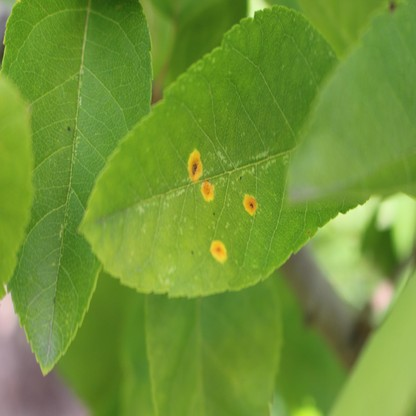rust: (186, 147, 203, 181), (209, 240, 228, 264), (243, 192, 259, 215), (200, 180, 215, 201)
